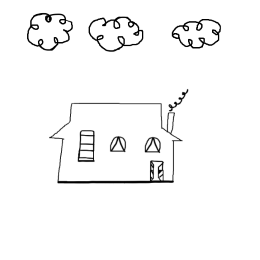chimney: (158, 88, 193, 136)
closed_window: (73, 125, 100, 169)
clouds: (81, 14, 150, 58), (166, 13, 226, 57), (22, 7, 78, 54)
door: (145, 158, 170, 186)
open_window: (105, 133, 133, 158), (143, 135, 166, 156)
single_line_roof: (41, 95, 192, 144)
small_house: (1, 0, 260, 260)
wall: (45, 128, 184, 188)
